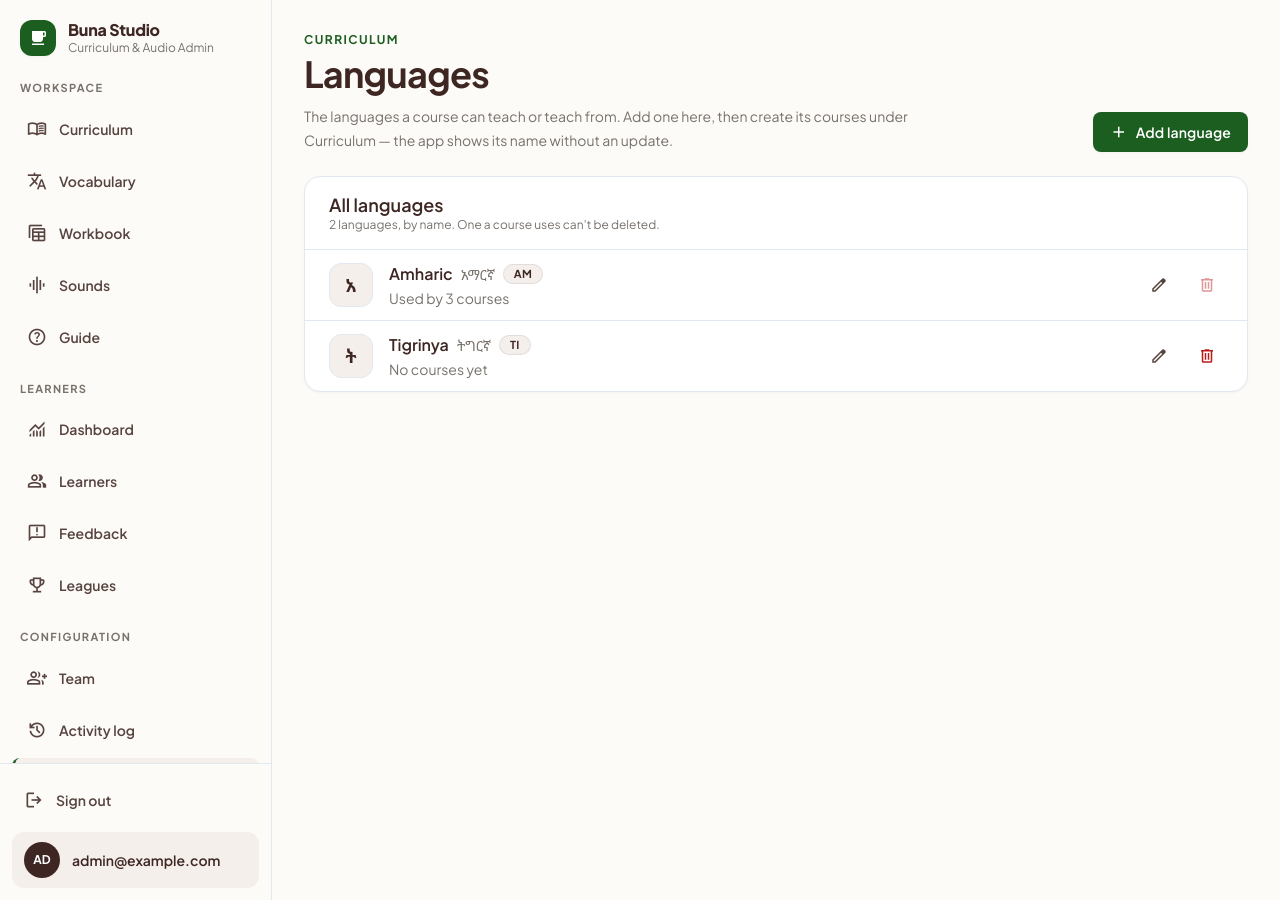
Test: the languages page › adds a language and lists it
Step 1. Click the button "Add language" → (1170,132), box [1093,112,1248,152]
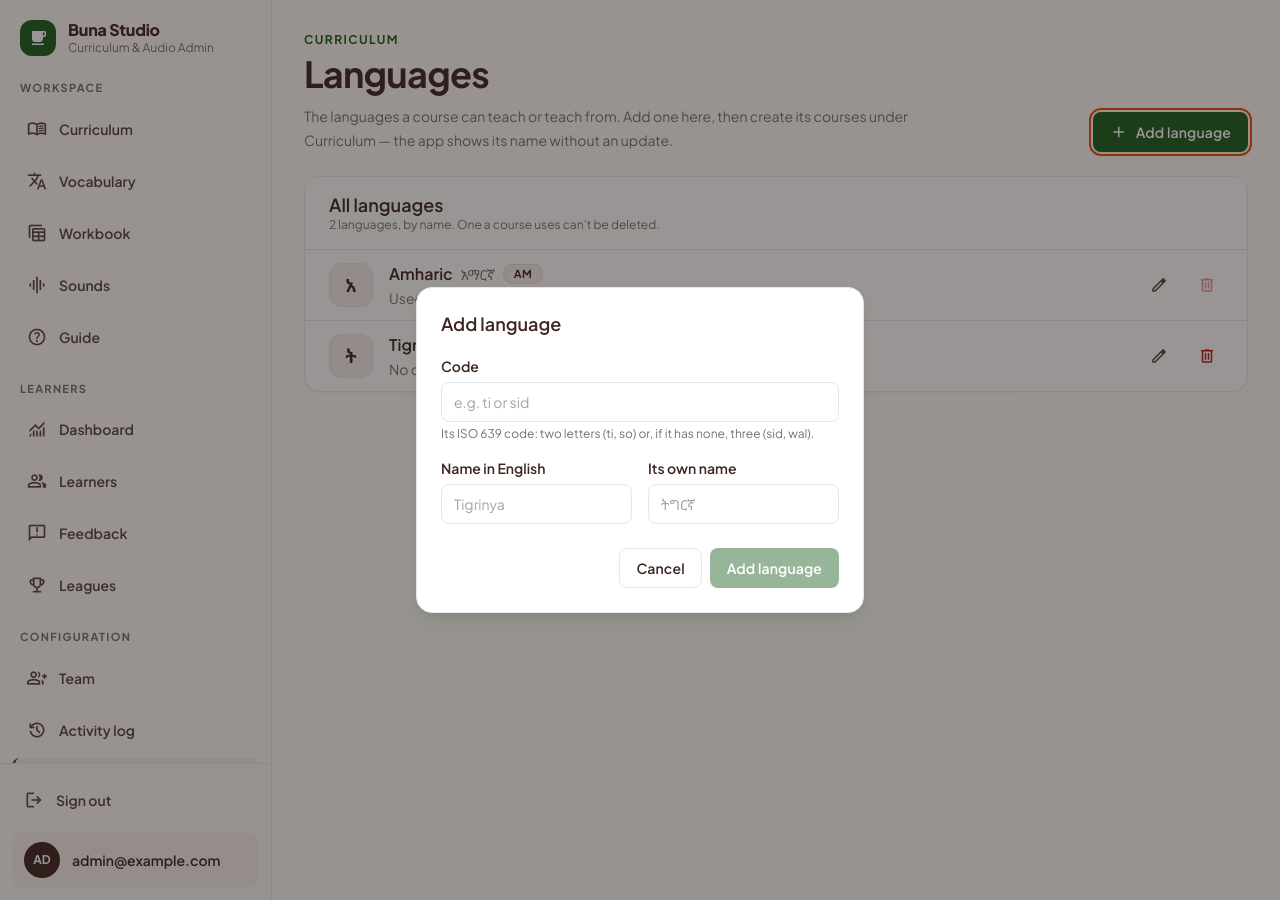
Result: the button "Add language" is disabled at [710,548,839,588]
Step 2. Type "SID" into the field labelled "Code" → (640,402), box [441,382,839,422]
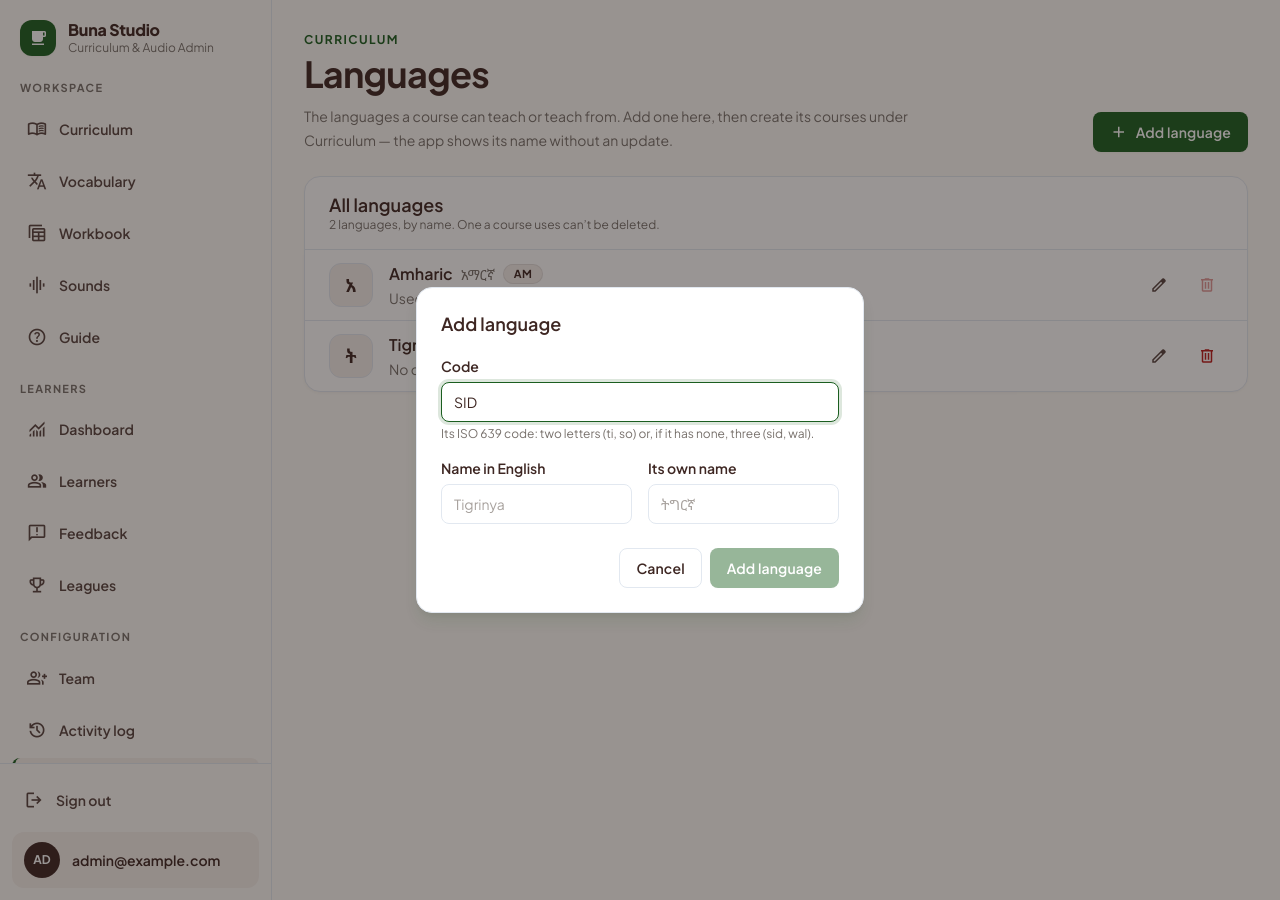
Step 3. Type " Sidama " into the field labelled "Name in English" → (536,504), box [441,484,632,524]
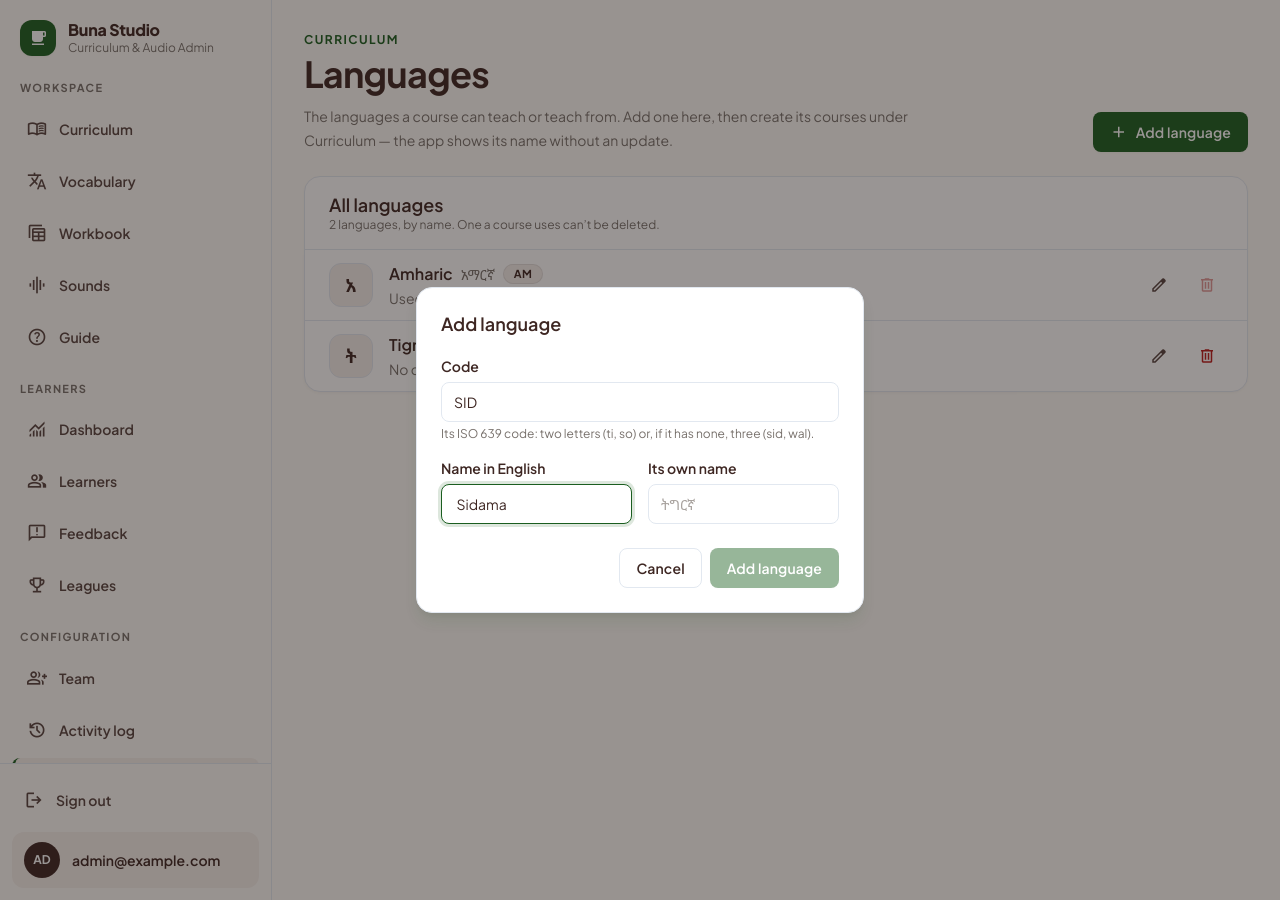
Step 4. Type "Sidaamu Afoo" into the field labelled "Its own name" → (744,504), box [648,484,839,524]
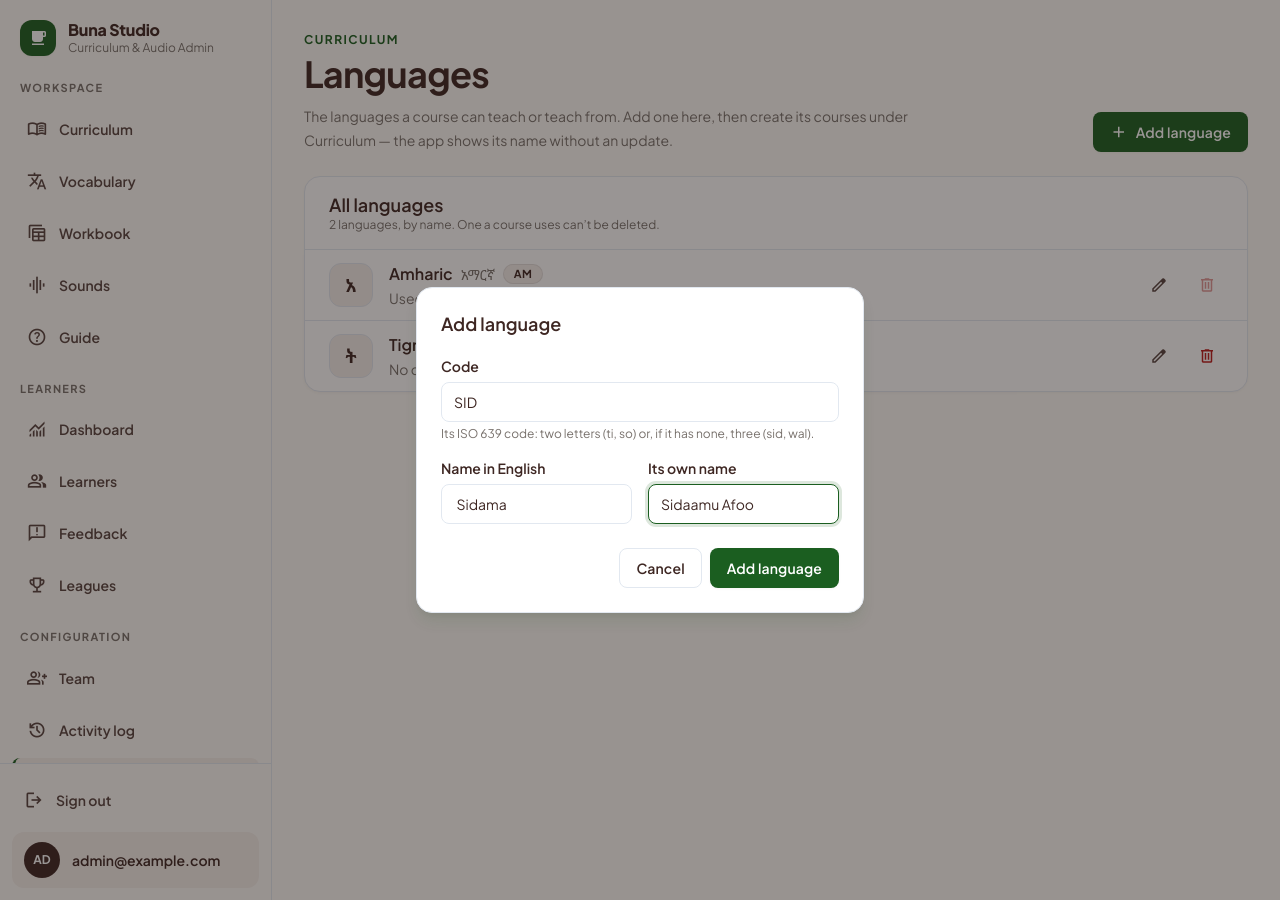
Step 5. Click the button "Add language" → (774,568), box [710,548,839,588]
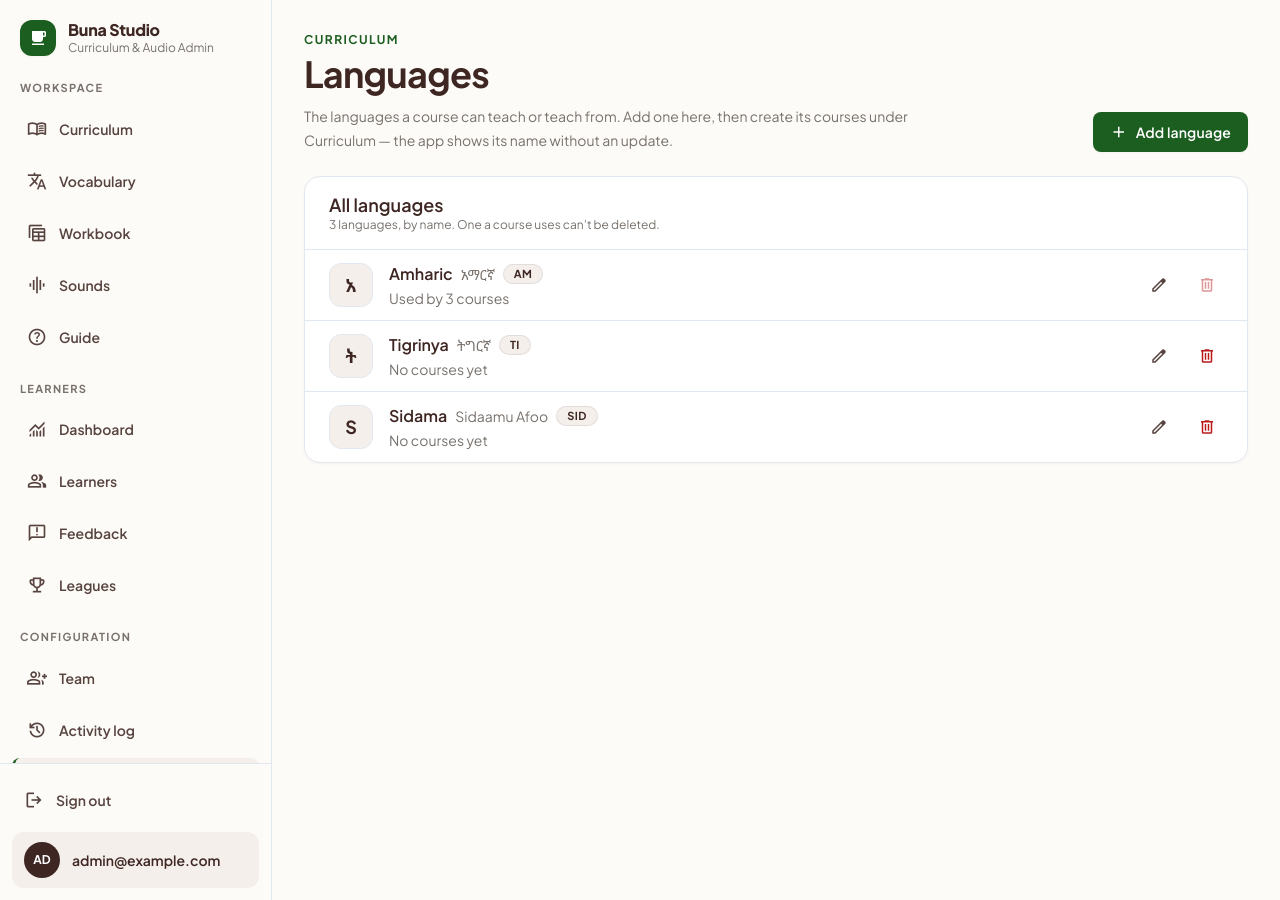
Result: the text "Sidama" is shown at [389,404,447,428]
Result: the dialog is gone
